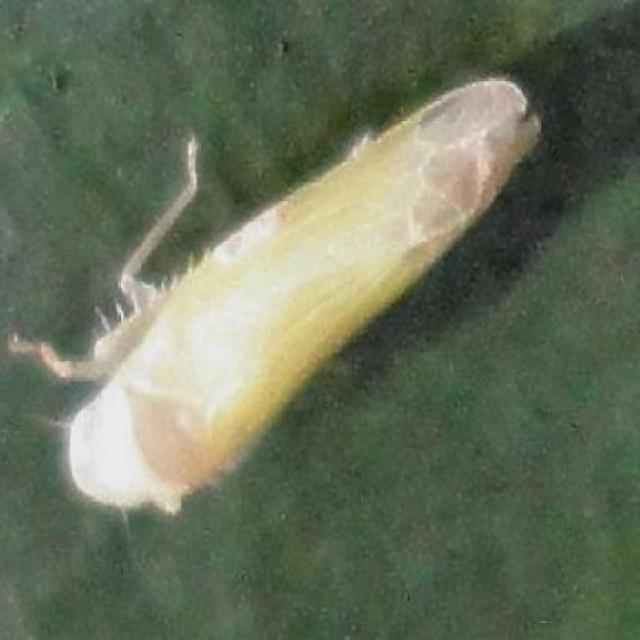green-leafhopper: (7, 71, 544, 514)
